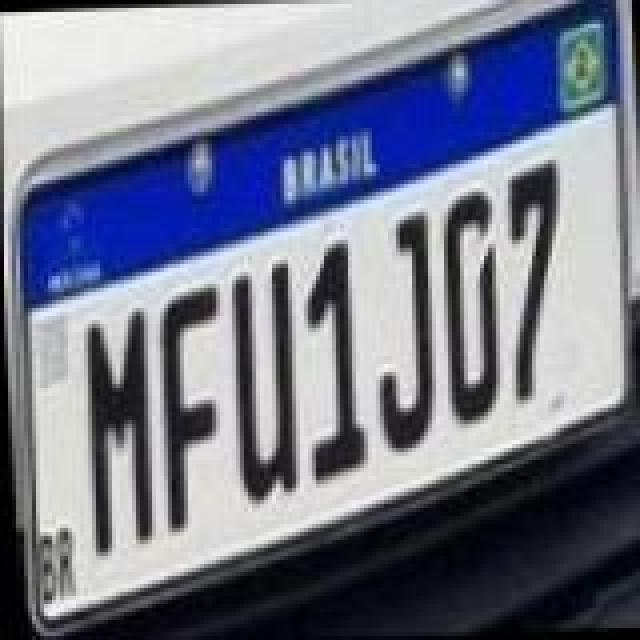1: (296, 234, 364, 482)
7: (500, 154, 568, 398)
D: (434, 188, 502, 428)
F: (152, 274, 228, 530)
J: (368, 210, 440, 454)
M: (80, 304, 156, 560)
U: (224, 254, 300, 506)
